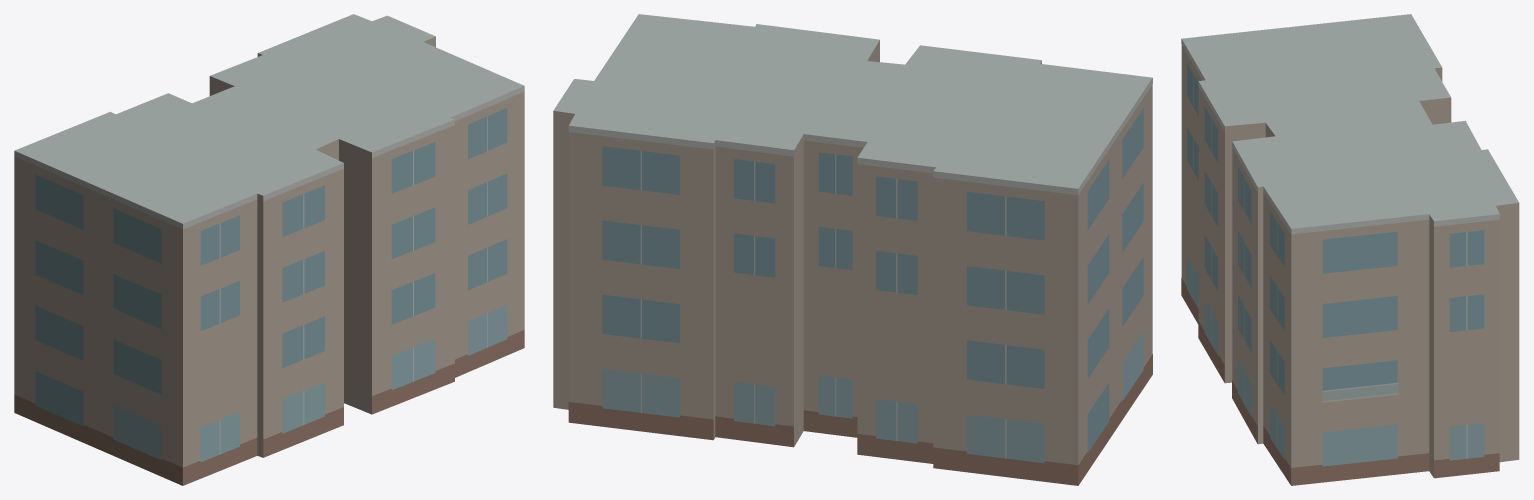
File: survey-upis-32821091.glb
The picture shows the model from 3 angles, left to right: view 1: azimuth 30°, elevation 25°; view 2: azimuth 150°, elevation 25°; view 3: azimuth 270°, elevation 25°; orthographic projection. The views are drawn at different scales.
Visible parts, largest first — view 1: survey-upis-32821091.tmp; view 2: survey-upis-32821091.tmp; view 3: survey-upis-32821091.tmp.
Part boxes in pixels (x1,y1,x2,y2): survey-upis-32821091.tmp: (14, 14, 524, 485); survey-upis-32821091.tmp: (553, 14, 1152, 485); survey-upis-32821091.tmp: (1181, 14, 1519, 485).
Size of the model in its own units: 20.35 by 11.34 by 13.52.
